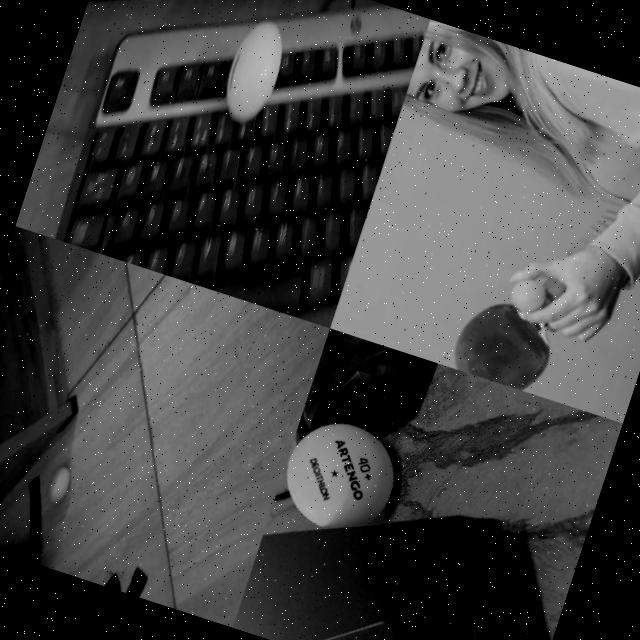ping-pong-ball: (270, 407, 408, 544), (216, 16, 294, 128), (507, 274, 550, 318), (46, 466, 70, 503)
